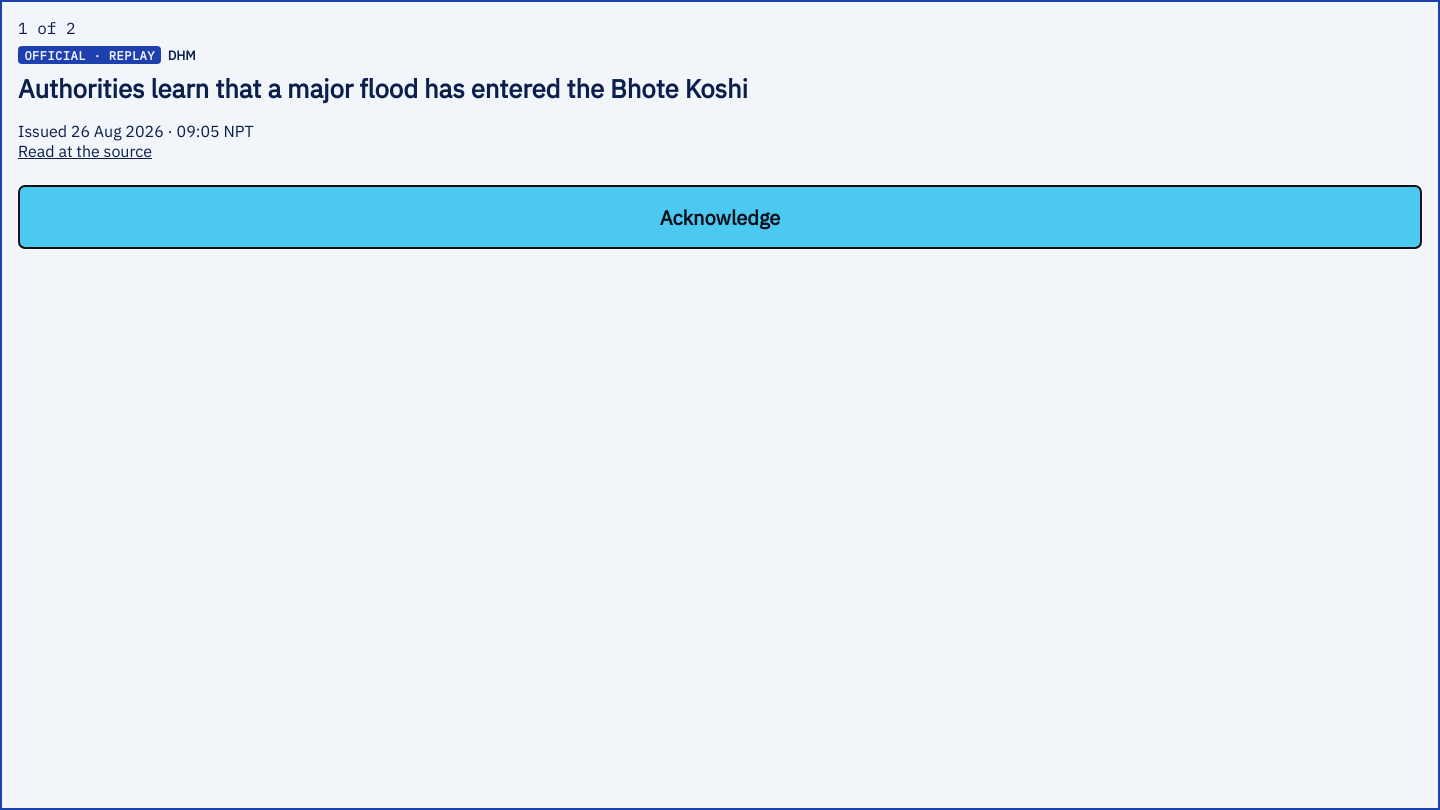
Test: the takeover on the page › shows Official first, then Community, with the count
This screenshot has width=1440, height=810.
Expected: the text "OFFICIAL · REPLAY" is shown, left=18, top=46, right=161, bottom=64
Expected: the text "1 of 2" is shown, left=18, top=18, right=76, bottom=38
Click the button "Acknowledge": (720, 217) left=18, top=185, right=1422, bottom=249
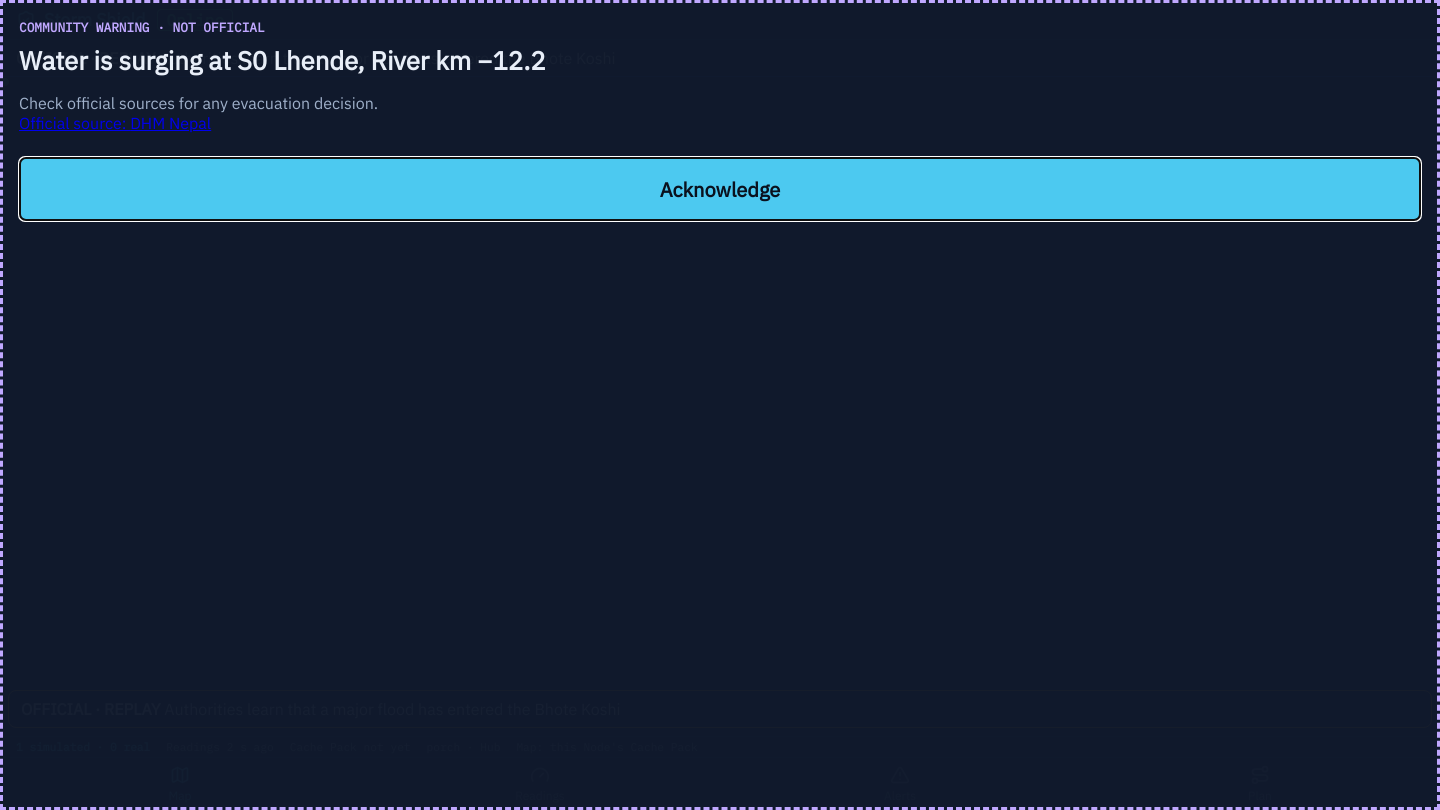
Result: the text "COMMUNITY WARNING · NOT OFFICIAL" is shown at left=19, top=19, right=265, bottom=36
Result: the text "1 of 2" is gone
